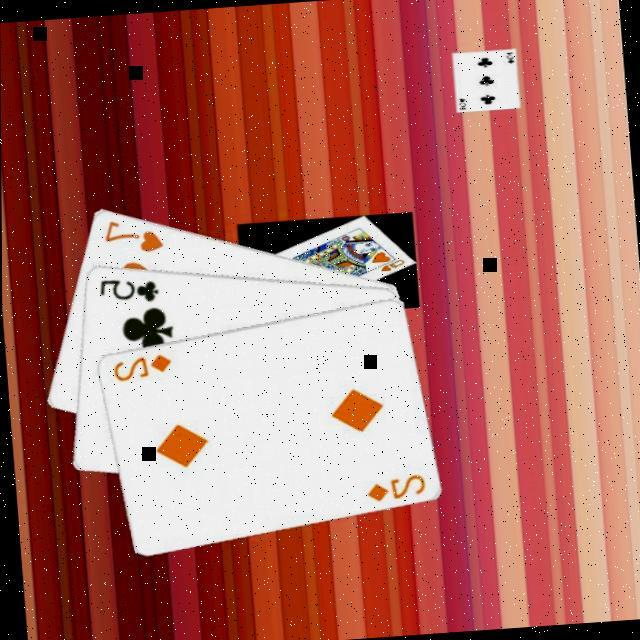2D: (108, 348, 174, 382), (362, 468, 428, 502)
5C: (96, 271, 162, 305)
7H: (99, 211, 167, 255)
